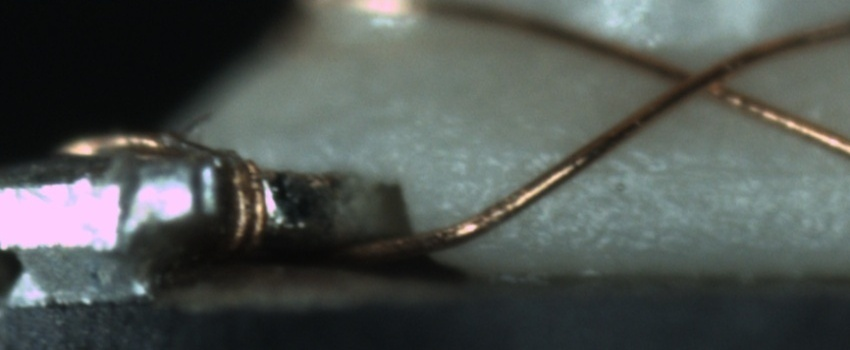CL: (653, 48, 748, 107)
DL: (555, 144, 849, 197)
TE: (56, 127, 272, 251)
